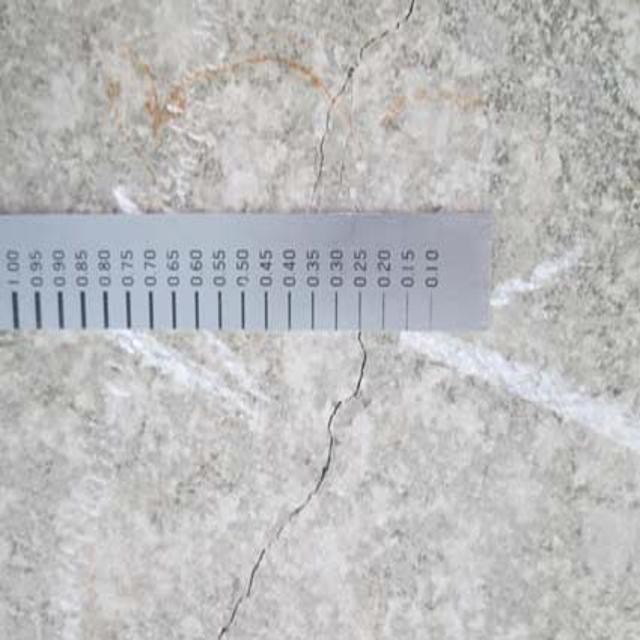crack: (197, 333, 382, 640), (308, 0, 442, 210)
